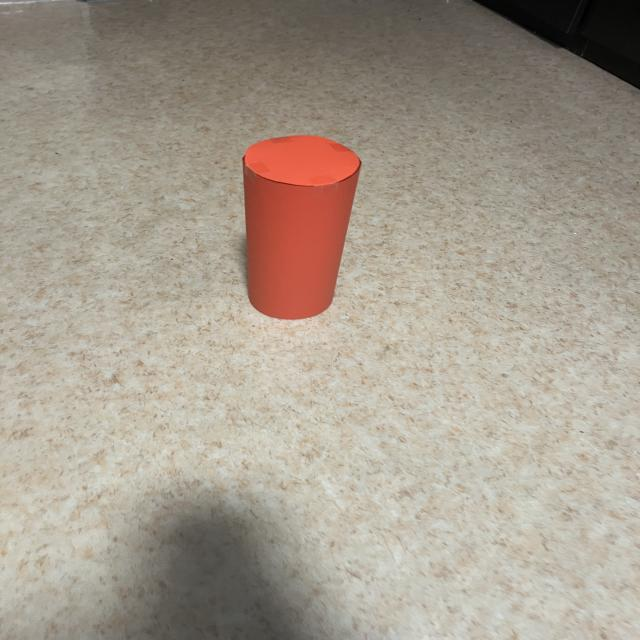przeszkoda: (243, 136, 361, 319)
